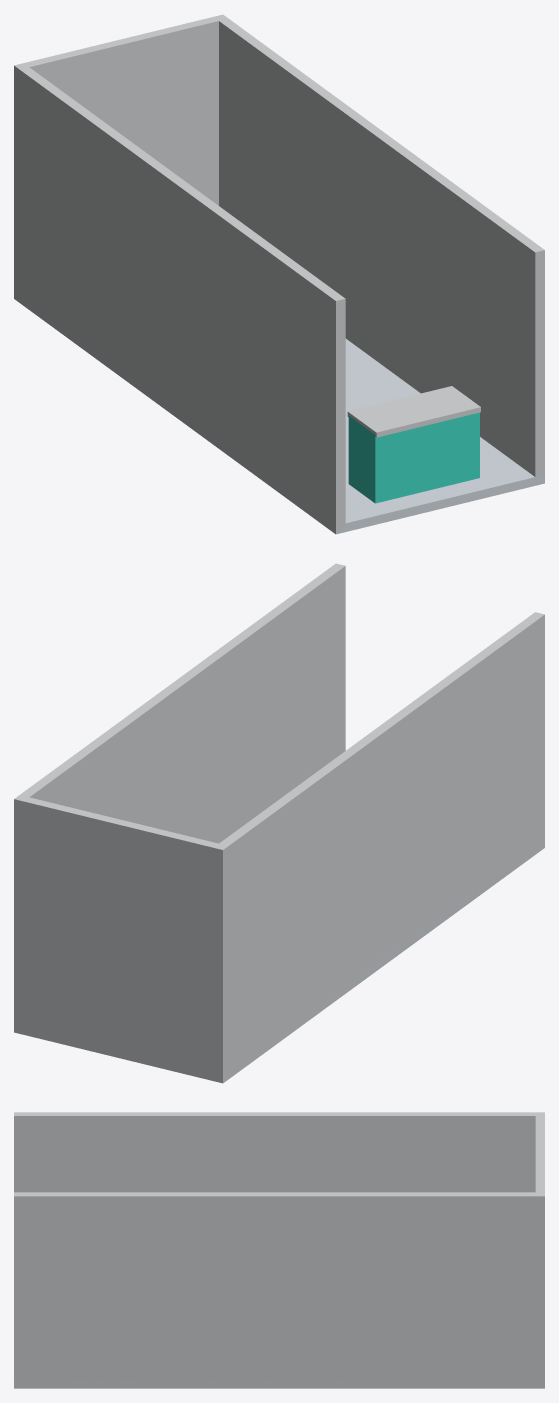
3 renders of one model, top to bottom at view 1: azimuth 30°, elevation 25°; view 2: azimuth 150°, elevation 25°; view 3: azimuth 270°, elevation 25°, orthographic. The views are drawn at different scales.
Parts seen in each view (by area): view 1: Exhibition Booth Concept; view 2: Exhibition Booth Concept; view 3: Exhibition Booth Concept.
Part boxes in pixels (<box>): Exhibition Booth Concept: <box>14,14,544,534</box>; Exhibition Booth Concept: <box>14,563,544,1083</box>; Exhibition Booth Concept: <box>14,1112,544,1388</box>.
Size of the model in its own units: 3 by 3.2 by 8.
